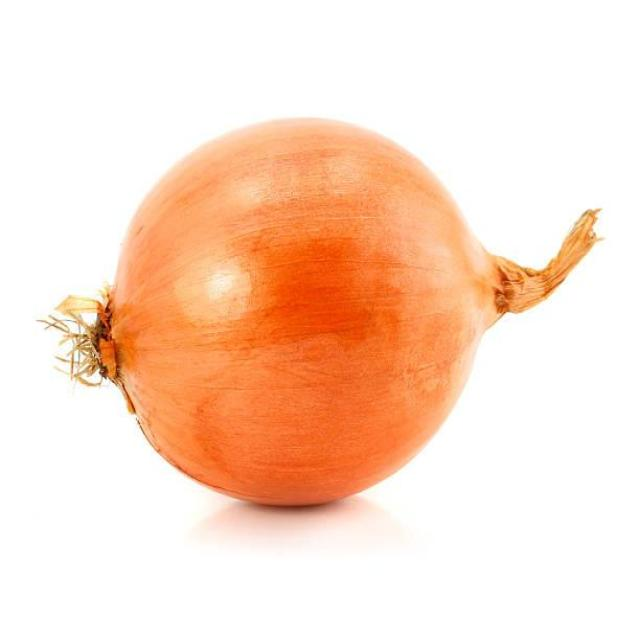Onion: (60, 120, 599, 504)
